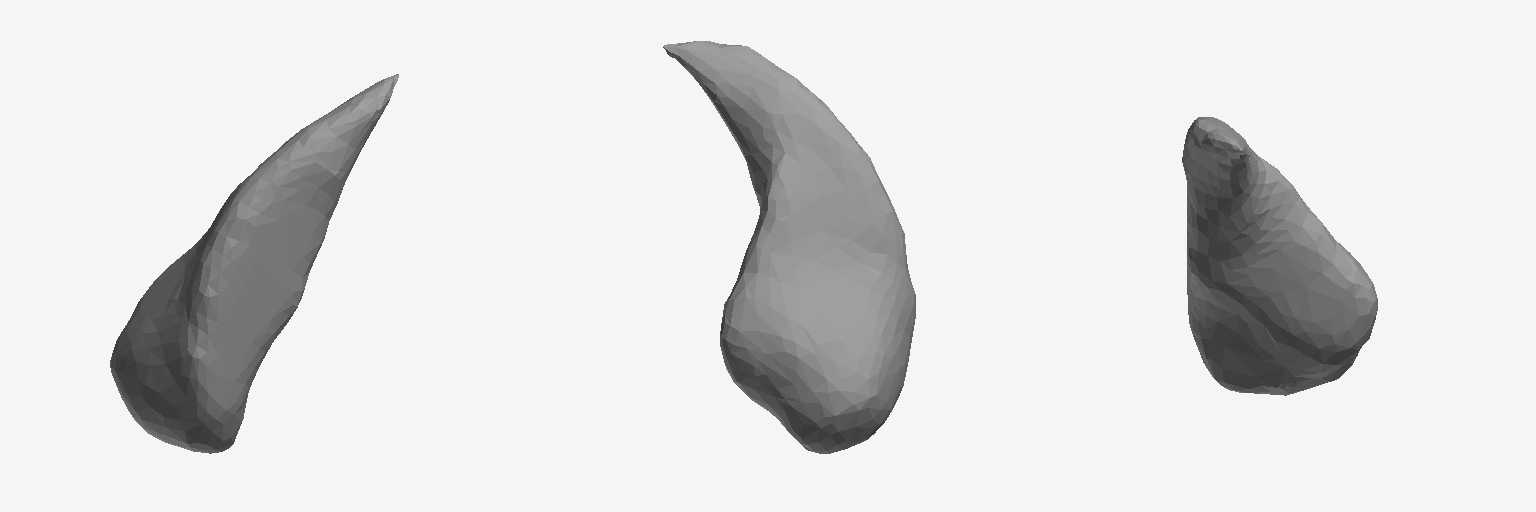
File: R-Amygdala.obj
The picture shows the model from 3 angles: view 1: azimuth 30°, elevation 25°; view 2: azimuth 150°, elevation 25°; view 3: azimuth 270°, elevation 25°; orthographic projection.
Parts seen in each view (by area): view 1: R-amygdala_amygdala.001; view 2: R-amygdala_amygdala.001; view 3: R-amygdala_amygdala.001.
Boxes of the visible parts, <box> form: R-amygdala_amygdala.001: <box>110,74,398,453</box>; R-amygdala_amygdala.001: <box>663,41,915,453</box>; R-amygdala_amygdala.001: <box>1182,117,1377,395</box>.
Size of the model in its own units: 22.36 by 29.15 by 15.26.